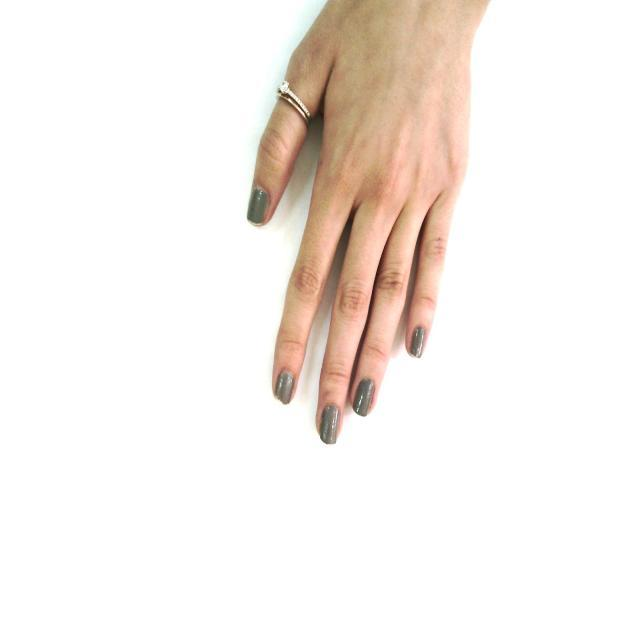Fingernail: (247, 185, 268, 224), (320, 404, 340, 444), (353, 378, 374, 415), (276, 371, 294, 404), (409, 327, 425, 358)
